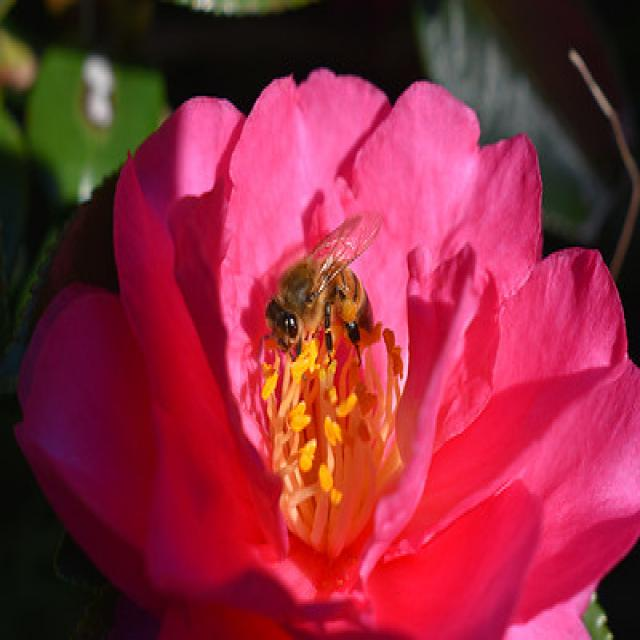Abeille: (244, 224, 402, 370)
